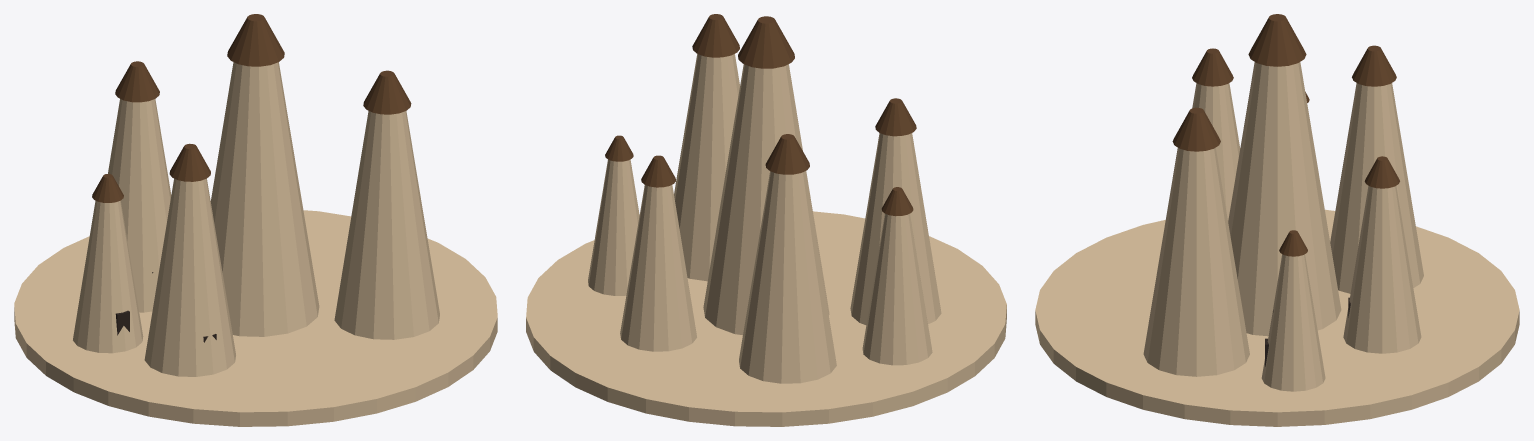
Rendered from kapadokya.glb.
3 views of the same model, side by side, from view 1: azimuth 30°, elevation 25°; view 2: azimuth 150°, elevation 25°; view 3: azimuth 270°, elevation 25° (orthographic).
Size of the model in its own units: 0.6 by 0.4196 by 0.6.
